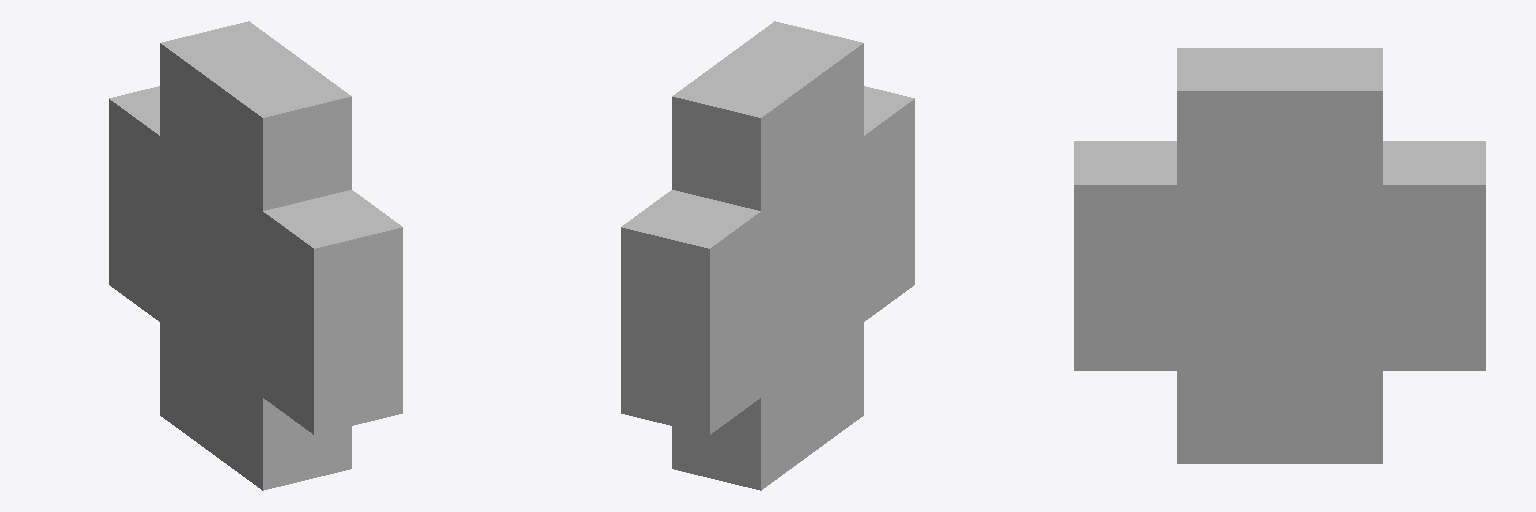
File: wheel.obj
3 renders of one model, left to right at view 1: azimuth 30°, elevation 25°; view 2: azimuth 150°, elevation 25°; view 3: azimuth 270°, elevation 25°, orthographic.
Parts seen in each view (by area): view 1: object 1; view 2: object 1; view 3: object 1.
Part boxes in pixels (x1,y1,x2,y2): object 1: (109, 21, 402, 490); object 1: (621, 21, 914, 490); object 1: (1074, 48, 1485, 463).
Size of the model in its own units: 0.1 by 0.4 by 0.4.